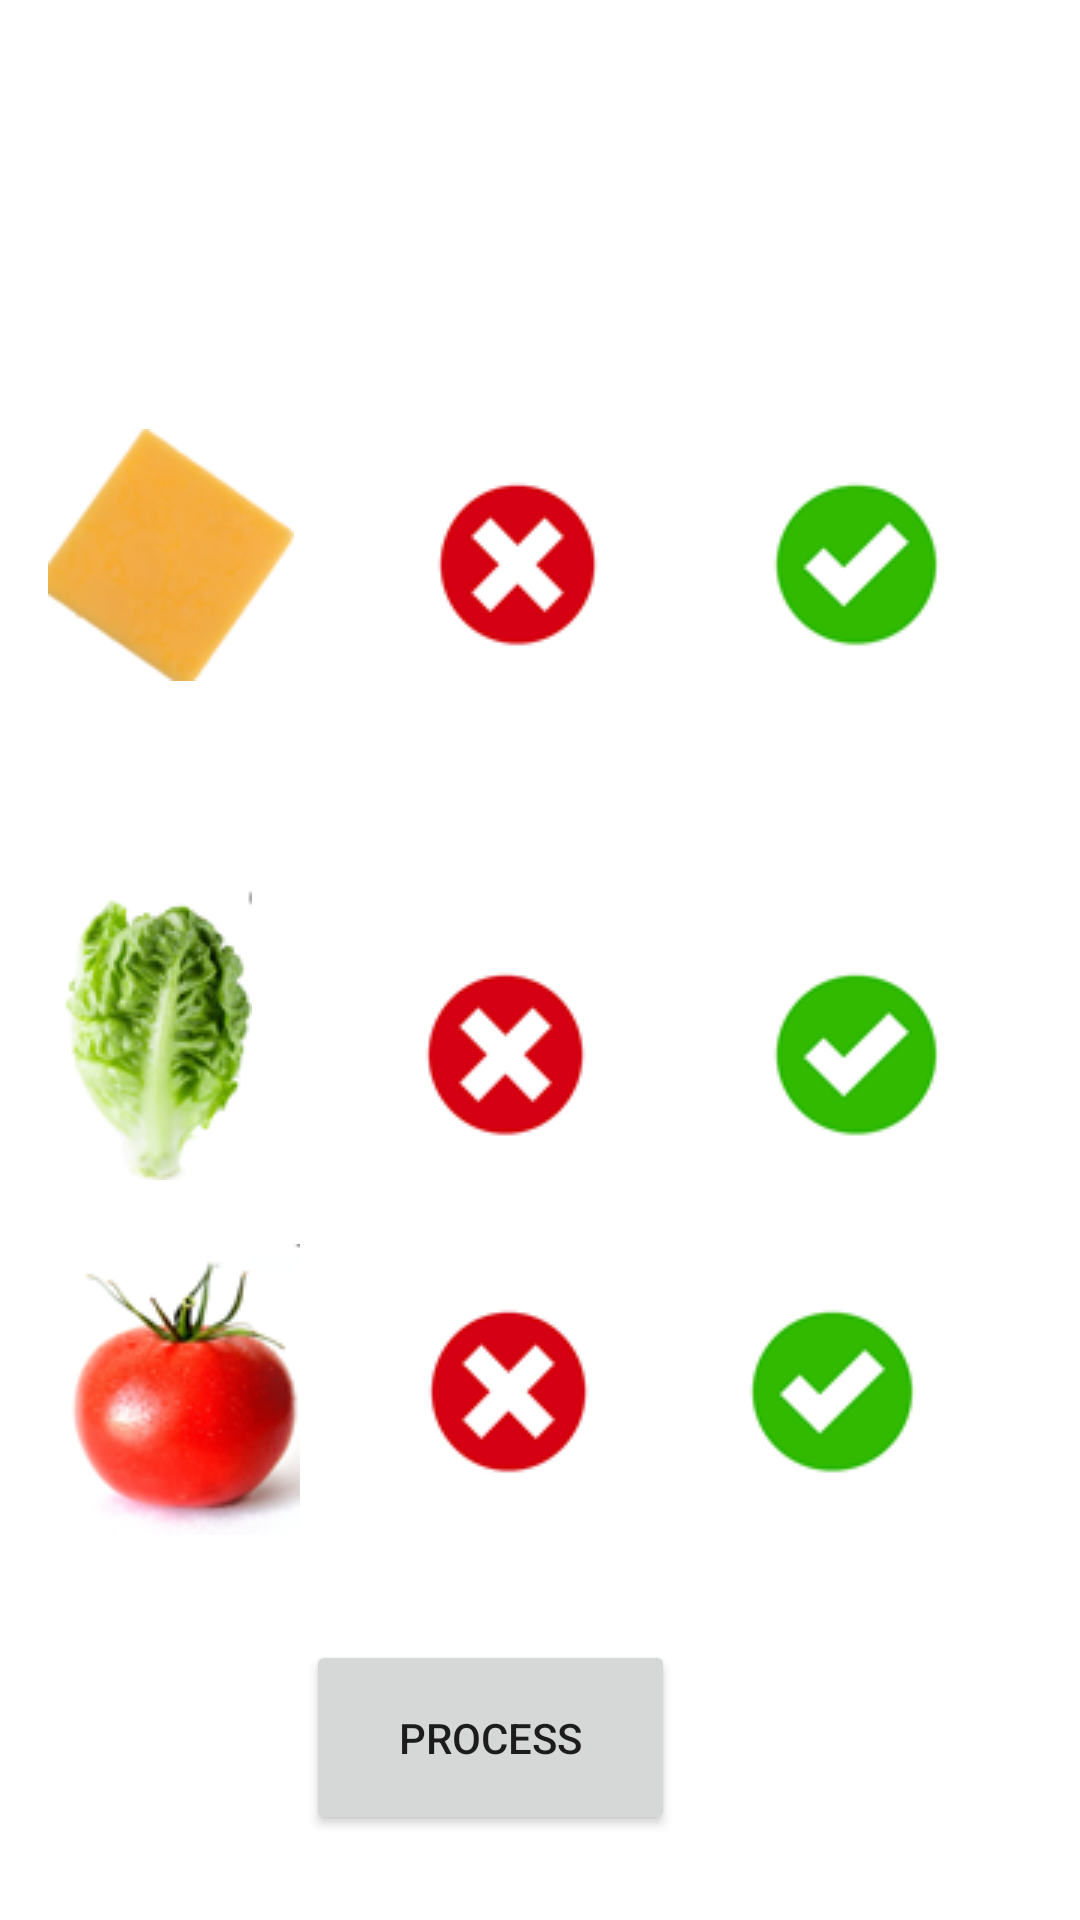

Where to tap for icons on this 1080×1920 app screen, as [x,y]:
cheese: [171,555]
lettuce: [158,1036]
tomato: [187,1383]
yes: [856,564], [856,1054], [832,1391]
